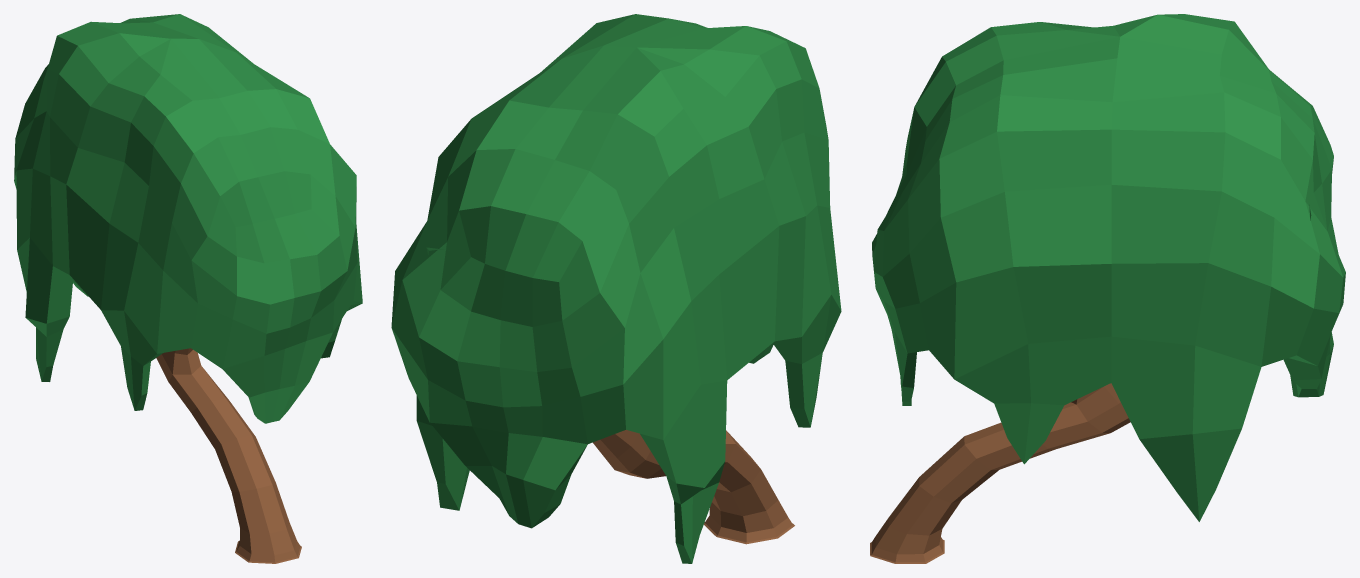
The model's file is jungle-tree.glb.
3 views of the same model, side by side, from view 1: azimuth 30°, elevation 25°; view 2: azimuth 150°, elevation 25°; view 3: azimuth 270°, elevation 25° (orthographic). The views are drawn at different scales.
Parts seen in each view (by area): view 1: Willow_3; view 2: Willow_3; view 3: Willow_3.
Boxes of the visible parts, left/top/right/bottom form: Willow_3: left=14, top=14, right=362, bottom=563; Willow_3: left=391, top=14, right=841, bottom=563; Willow_3: left=870, top=14, right=1345, bottom=563.
Size of the model in its own units: 2.63 by 4.7 by 3.96.
